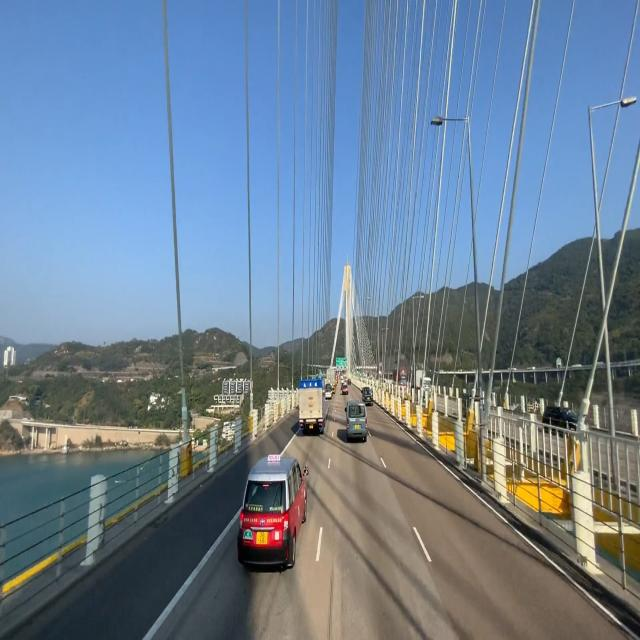Car: (237, 447, 310, 575), (297, 376, 329, 441), (341, 396, 371, 444)
